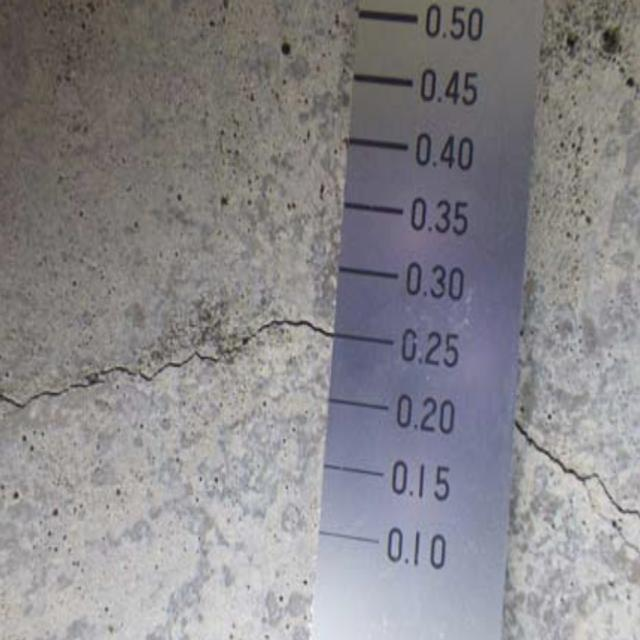crack: (14, 307, 330, 423), (517, 400, 633, 531)
